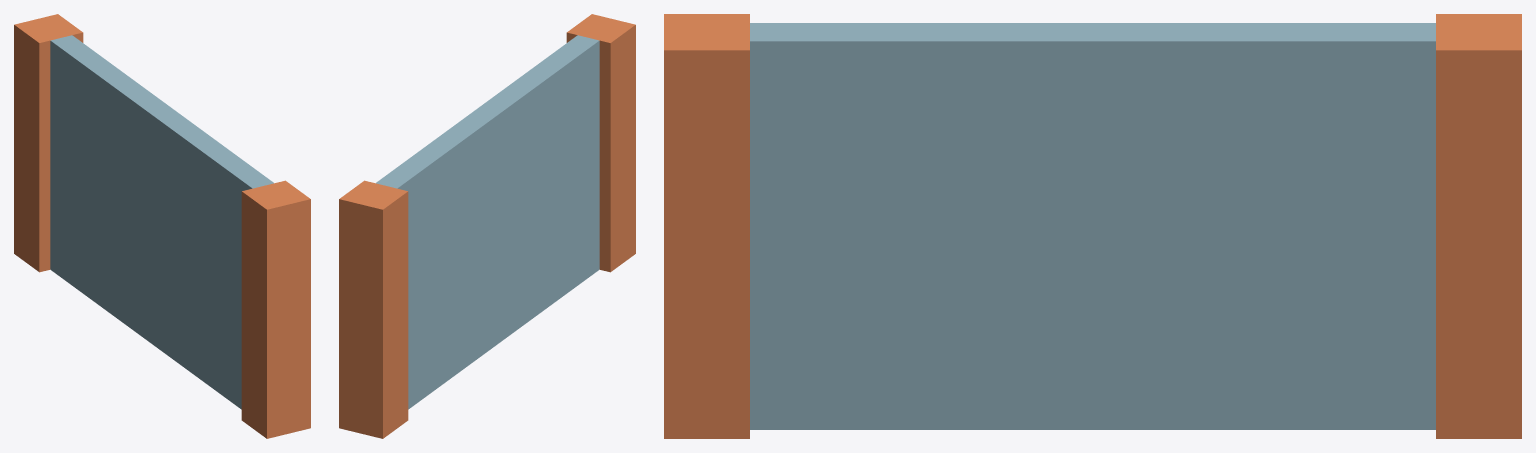
Rendered from wallHalf.fbx.
3 renders of one model, left to right at view 1: azimuth 30°, elevation 25°; view 2: azimuth 150°, elevation 25°; view 3: azimuth 270°, elevation 25°, orthographic. The views are drawn at different scales.
Parts seen in each view (by area): view 1: wallHalf; view 2: wallHalf; view 3: wallHalf.
Boxes of the visible parts, x1,y1,x2,y2 form: wallHalf: (14,14,310,438); wallHalf: (339,14,635,438); wallHalf: (664,14,1521,438).
Size of the model in its own units: 1 by 5 by 10.
